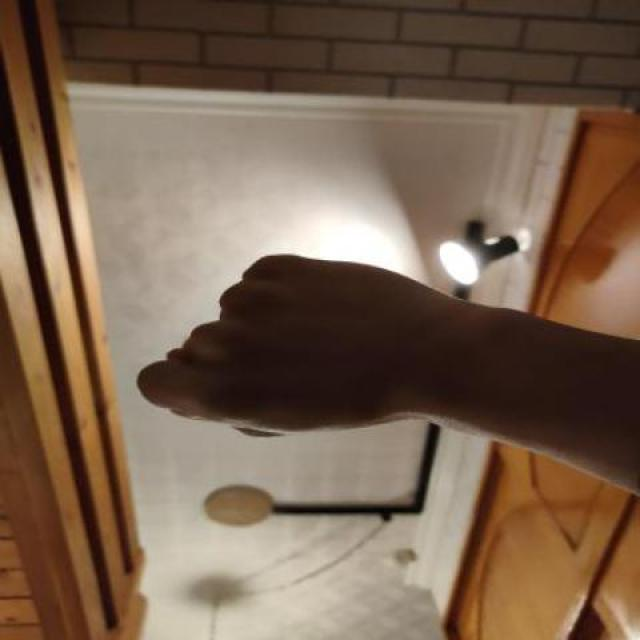Closed Hand: (133, 248, 439, 480)
